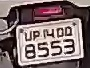1: (41, 29, 47, 40)
3: (61, 39, 76, 55)
4: (47, 29, 55, 40)
5: (49, 40, 64, 57), (38, 42, 48, 58)
8: (24, 44, 36, 59)
D: (56, 28, 64, 38)
P: (33, 31, 41, 42)
Q: (63, 25, 74, 38)
U: (23, 31, 33, 43)
